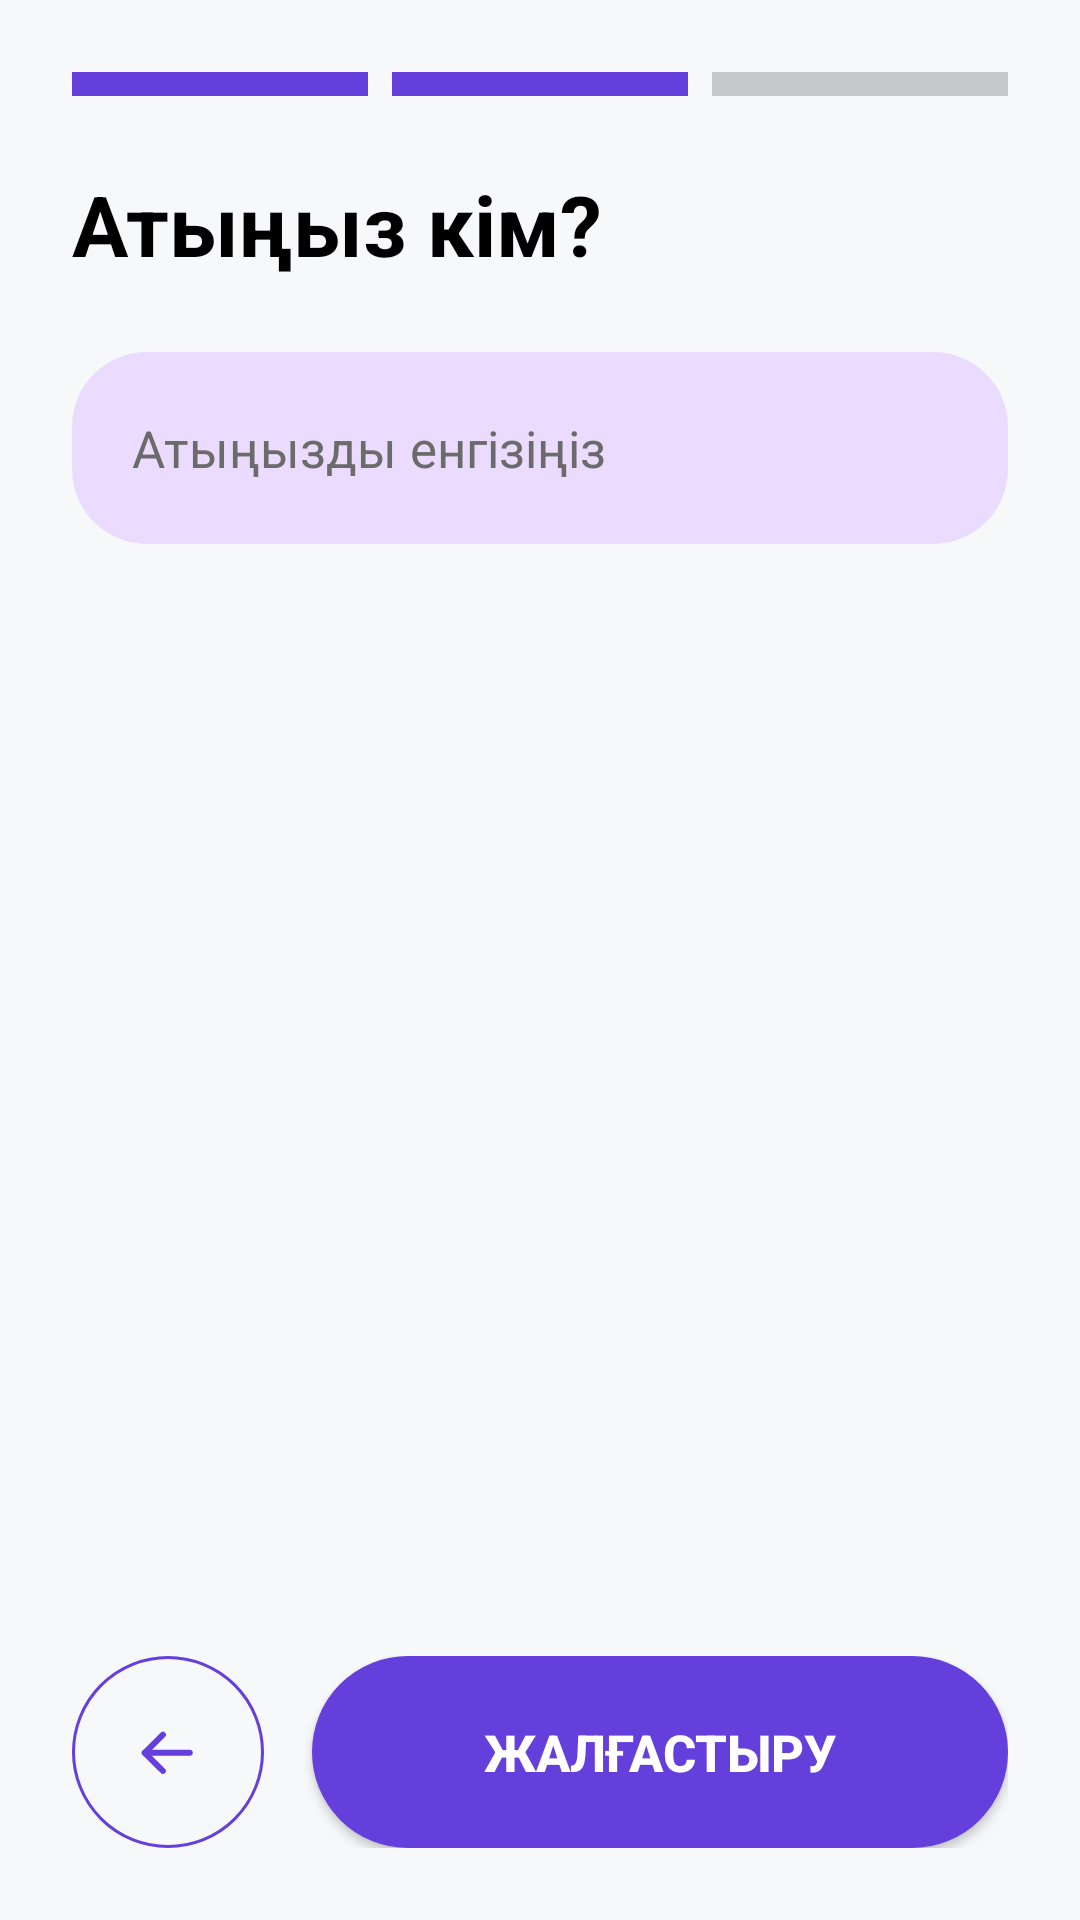

Icons on this 1080×1920 Android screen, each with the point to tap as (x,y):
Back: (168,1752)
